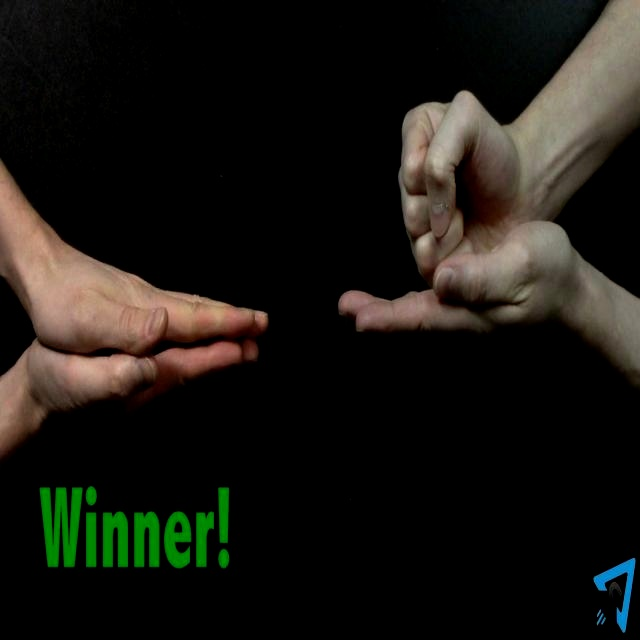Paper: (31, 238, 269, 354)
Rock: (398, 90, 530, 285)
